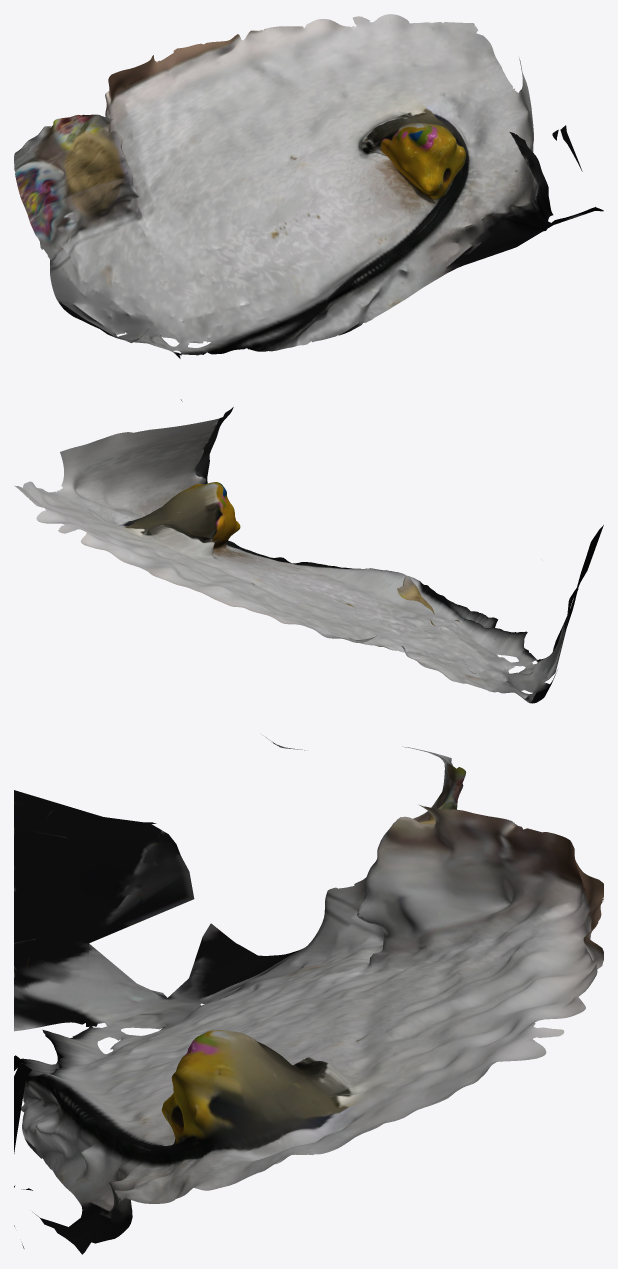
The picture shows the model from 3 angles, top to bottom: view 1: azimuth 30°, elevation 25°; view 2: azimuth 150°, elevation 25°; view 3: azimuth 270°, elevation 25°; orthographic projection. The views are drawn at different scales.
Bounding box in the file's own units: 0.8488 × 0.2694 × 0.5786.
Materials: 1 (1 with a texture image).
